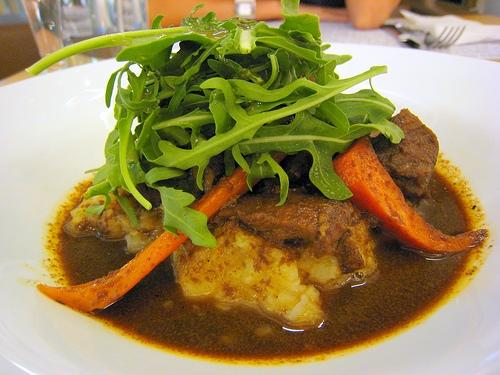carrot: (34, 152, 288, 316), (332, 134, 485, 253)
lettuce: (136, 66, 387, 190), (24, 3, 258, 77), (238, 111, 404, 200), (163, 34, 264, 114), (106, 64, 152, 211), (144, 166, 218, 248), (216, 21, 328, 65), (152, 107, 214, 149), (334, 88, 396, 124), (278, 1, 322, 45), (154, 41, 206, 77), (266, 48, 291, 90), (208, 59, 237, 80), (158, 76, 176, 101), (248, 58, 272, 74)
